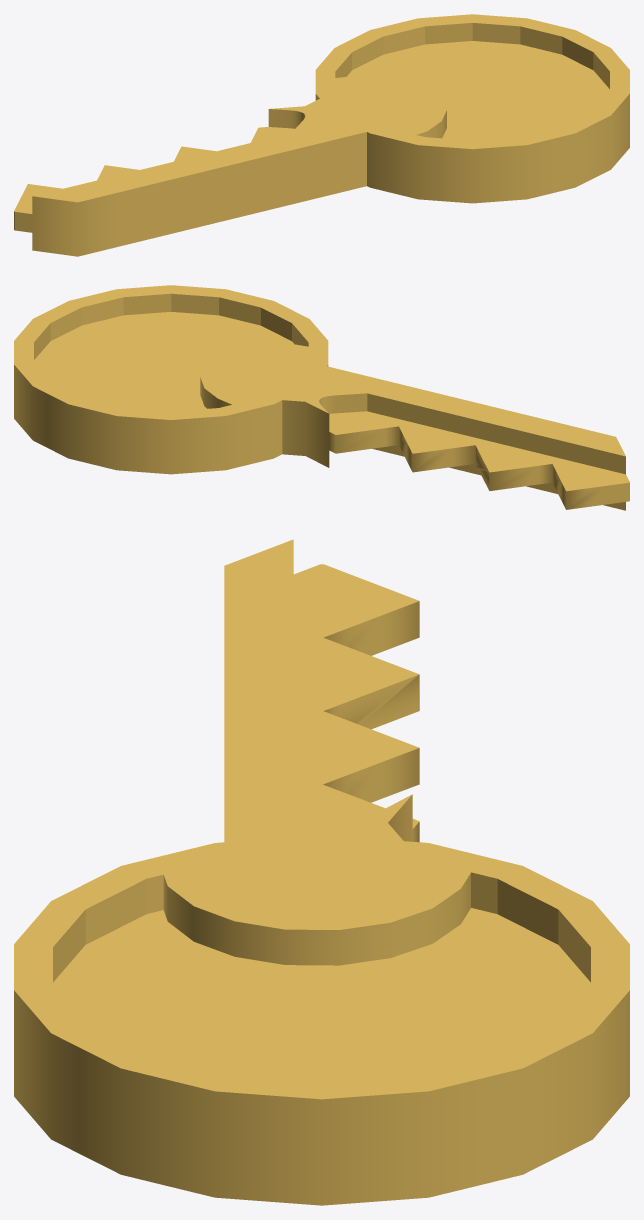
File: JANITOR KEY.fbx
The picture shows the model from 3 angles, top to bottom: view 1: azimuth 30°, elevation 25°; view 2: azimuth 150°, elevation 25°; view 3: azimuth 270°, elevation 25°; orthographic projection. The views are drawn at different scales.
Visible parts, largest first — view 1: Cylinder001, Box001, Cylinder002; view 2: Cylinder001, Box001, Cylinder002; view 3: Cylinder001, Box001, Cylinder002.
Boxes of the visible parts, left/top/right/bottom form: Cylinder001: left=315, top=14, right=629, bottom=203; Box001: left=14, top=91, right=383, bottom=256; Cylinder002: left=324, top=75, right=446, bottom=138; Cylinder001: left=14, top=285, right=328, bottom=474; Box001: left=260, top=362, right=629, bottom=510; Cylinder002: left=200, top=344, right=316, bottom=408; Cylinder001: left=14, top=835, right=629, bottom=1205; Box001: left=224, top=539, right=419, bottom=849; Cylinder002: left=161, top=846, right=470, bottom=965.
Size of the model in its own units: 8.63 by 0.75 by 3.94.
